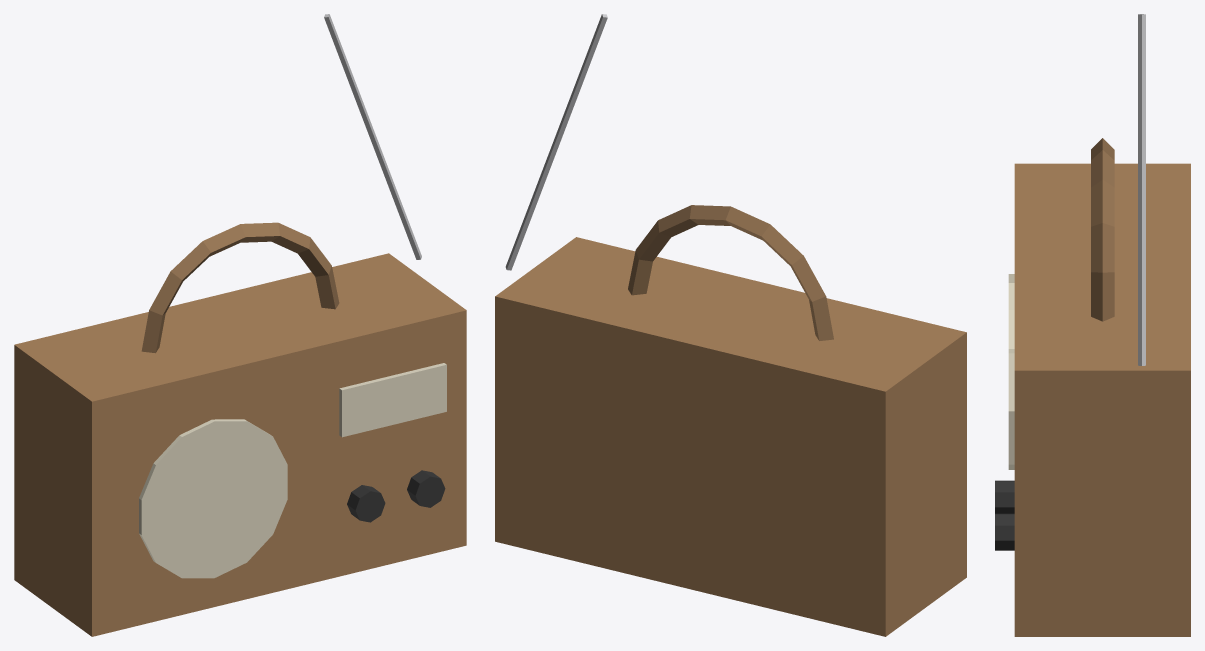
File: radio.glb
3 views of the same model, side by side, from view 1: azimuth 30°, elevation 25°; view 2: azimuth 150°, elevation 25°; view 3: azimuth 270°, elevation 25° (orthographic). The views are drawn at different scales.
Parts seen in each view (by area): view 1: radio; view 2: radio; view 3: radio.
Part boxes in pixels (box(x1,y1,x2,y2)): radio: box(14, 14, 466, 636); radio: box(495, 14, 966, 636); radio: box(995, 14, 1190, 636).
Size of the model in its own units: 0.2577 by 0.3252 by 0.1.
